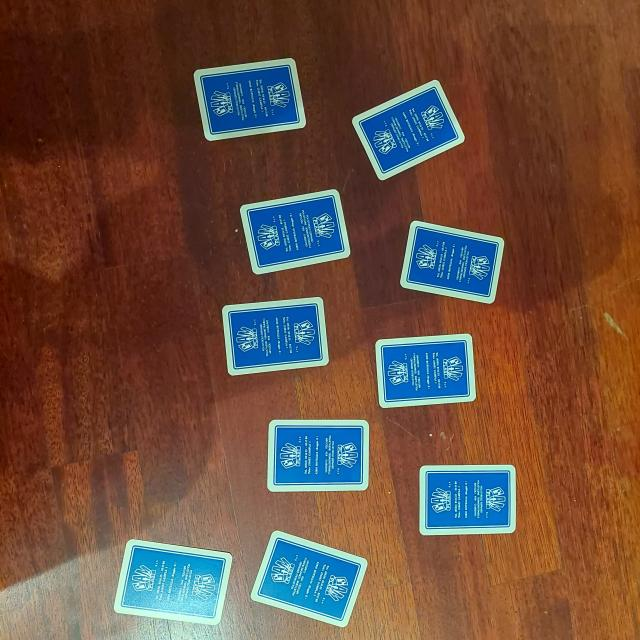card: (249, 530, 371, 630), (352, 80, 466, 180), (112, 538, 233, 629), (395, 217, 507, 309), (237, 189, 351, 276), (194, 57, 308, 141), (219, 297, 333, 375), (263, 416, 372, 494), (416, 460, 521, 538), (375, 332, 479, 409)
